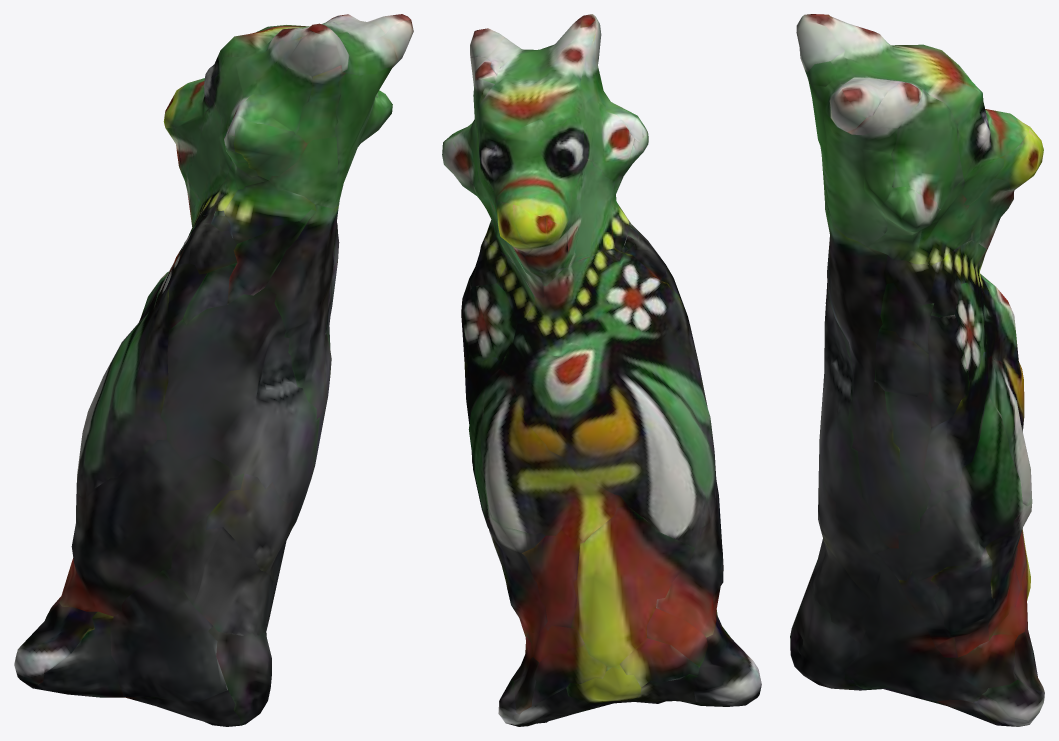
Rendered from hall.glb.
3 renders of one model, left to right at view 1: azimuth 30°, elevation 25°; view 2: azimuth 150°, elevation 25°; view 3: azimuth 270°, elevation 25°, orthographic. The views are drawn at different scales.
Size of the model in its own units: 0.5092 by 0.9416 by 0.3019.
1 material, 1 textured.
